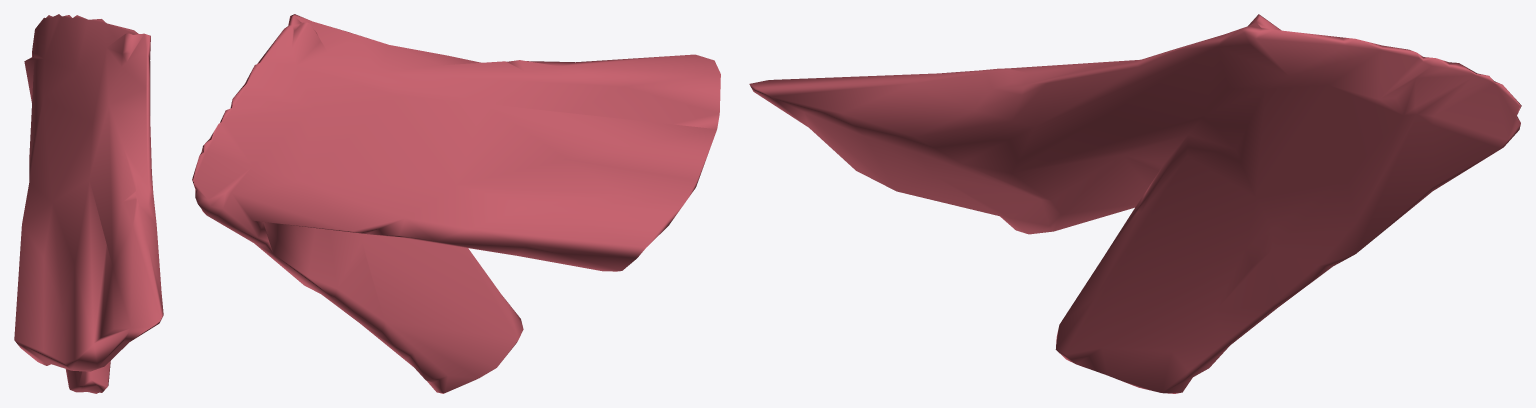
3 views of the same model, side by side, from view 1: azimuth 30°, elevation 25°; view 2: azimuth 150°, elevation 25°; view 3: azimuth 270°, elevation 25° (orthographic). The views are drawn at different scales.
Parts seen in each view (by area): view 1: 左侧翼内肌; view 2: 左侧翼内肌; view 3: 左侧翼内肌.
Boxes of the visible parts, x1,y1,x2,y2 form: 左侧翼内肌: (14, 14, 163, 393); 左侧翼内肌: (192, 14, 720, 393); 左侧翼内肌: (749, 14, 1521, 393).
Bounding box in the file's own units: 0.0331 × 0.0452 × 0.0725.
